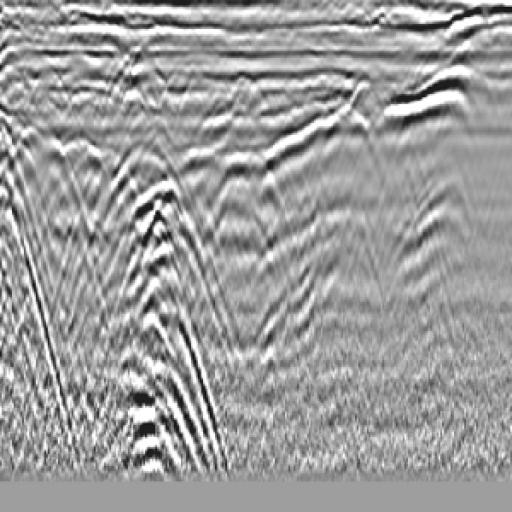metalic: (208, 125, 319, 351)
